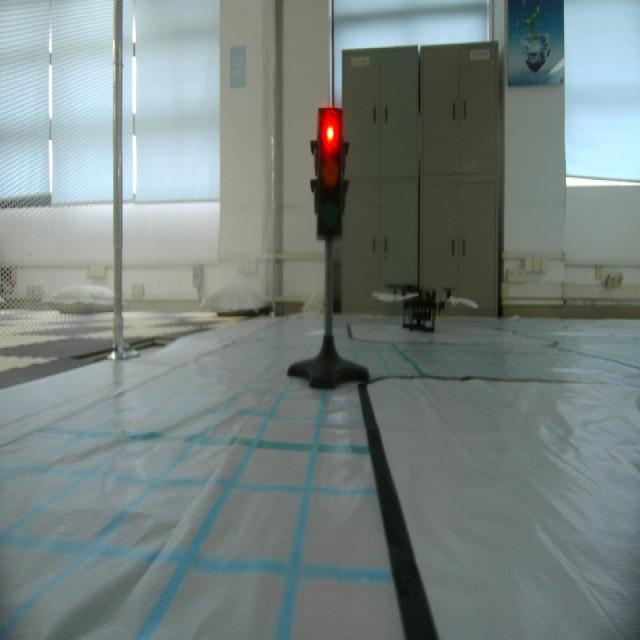red: (308, 103, 352, 245)
